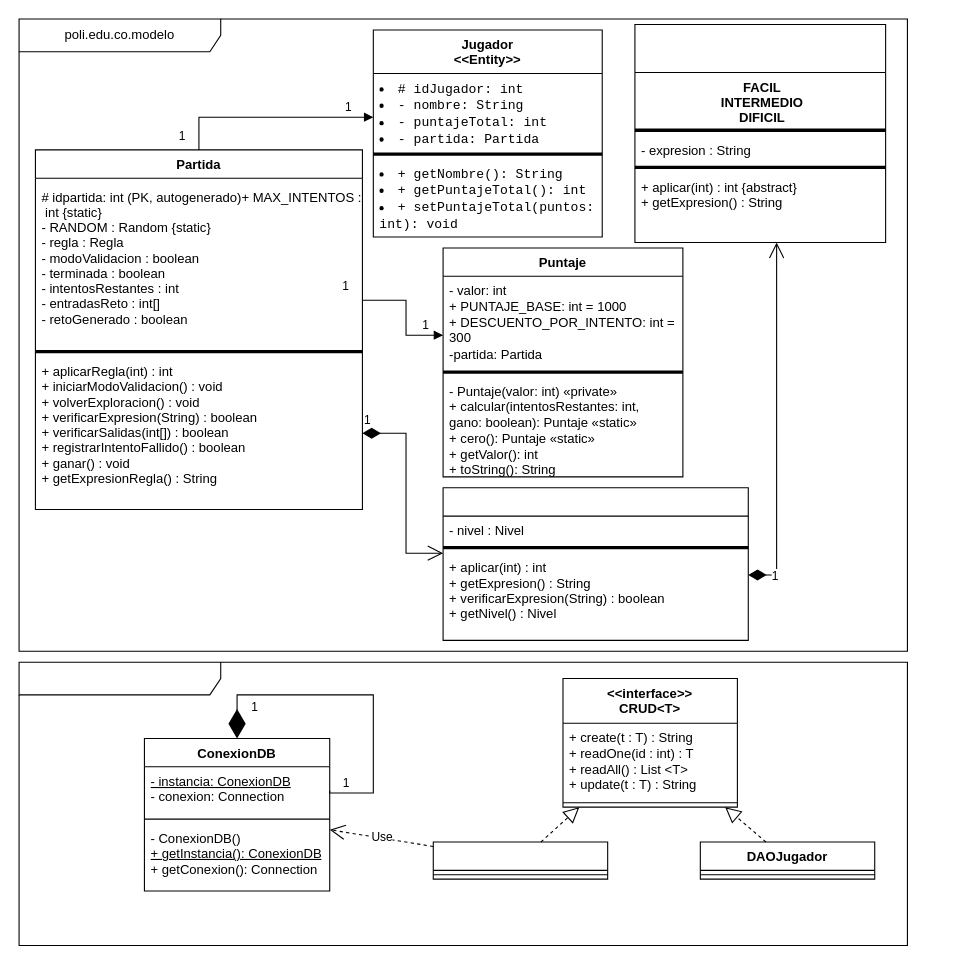
The diagram is 959 pixels wide and 965 high, and some of its shapes have lost their labels. The box of each missing label's shape, as (x1, y1, x2, y2) in pixels:
DAOPuntaje: (432, 841, 608, 879)
poli.edu.co.servicios: (18, 661, 907, 946)
Regla: (442, 487, 748, 640)
«enumeration» Nivel: (634, 23, 886, 243)
